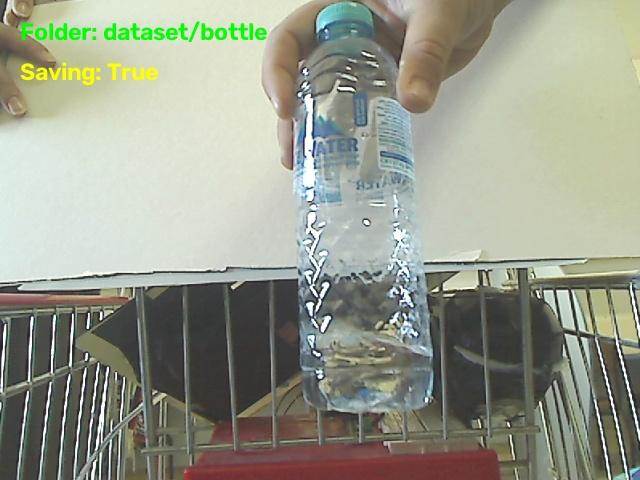Bottle: (294, 2, 432, 412)
